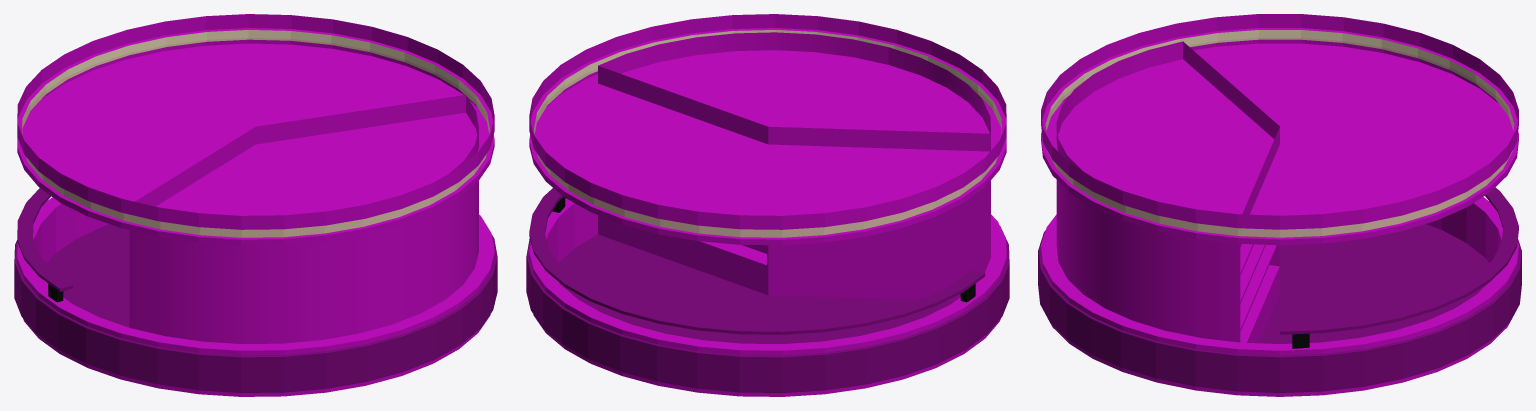
The model's file is WW_CylCinemaStand_01_Env.fbx.
The picture shows the model from 3 angles, left to right: view 1: azimuth 30°, elevation 25°; view 2: azimuth 150°, elevation 25°; view 3: azimuth 270°, elevation 25°; orthographic projection.
Parts seen in each view (by area): view 1: CylBase, CylWall, CylStandDrinkShelf, CylStandBench; view 2: CylBase, CylWall, CylStandDrinkShelf, CylStandBench; view 3: CylBase, CylStandDrinkShelf, CylStandBench, CylWall.
Boxes of the visible parts, left/top/right/bottom form: CylBase: left=14, top=14, right=497, bottom=396; CylWall: left=129, top=127, right=358, bottom=343; CylStandDrinkShelf: left=255, top=95, right=478, bottom=333; CylStandBench: left=17, top=188, right=72, bottom=302; CylBase: left=526, top=14, right=1009, bottom=396; CylWall: left=768, top=47, right=990, bottom=301; CylStandDrinkShelf: left=598, top=32, right=888, bottom=294; CylStandBench: left=529, top=188, right=985, bottom=334; CylBase: left=1038, top=14, right=1521, bottom=396; CylStandDrinkShelf: left=1056, top=124, right=1279, bottom=343; CylStandBench: left=1280, top=187, right=1518, bottom=348; CylWall: left=1056, top=41, right=1279, bottom=138.
Size of the model in its own units: 903 by 374 by 904.
